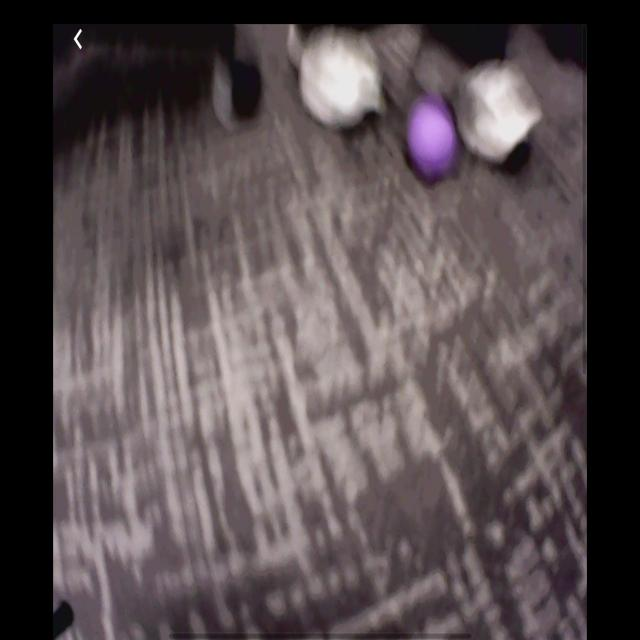ball: (410, 103, 458, 179)
